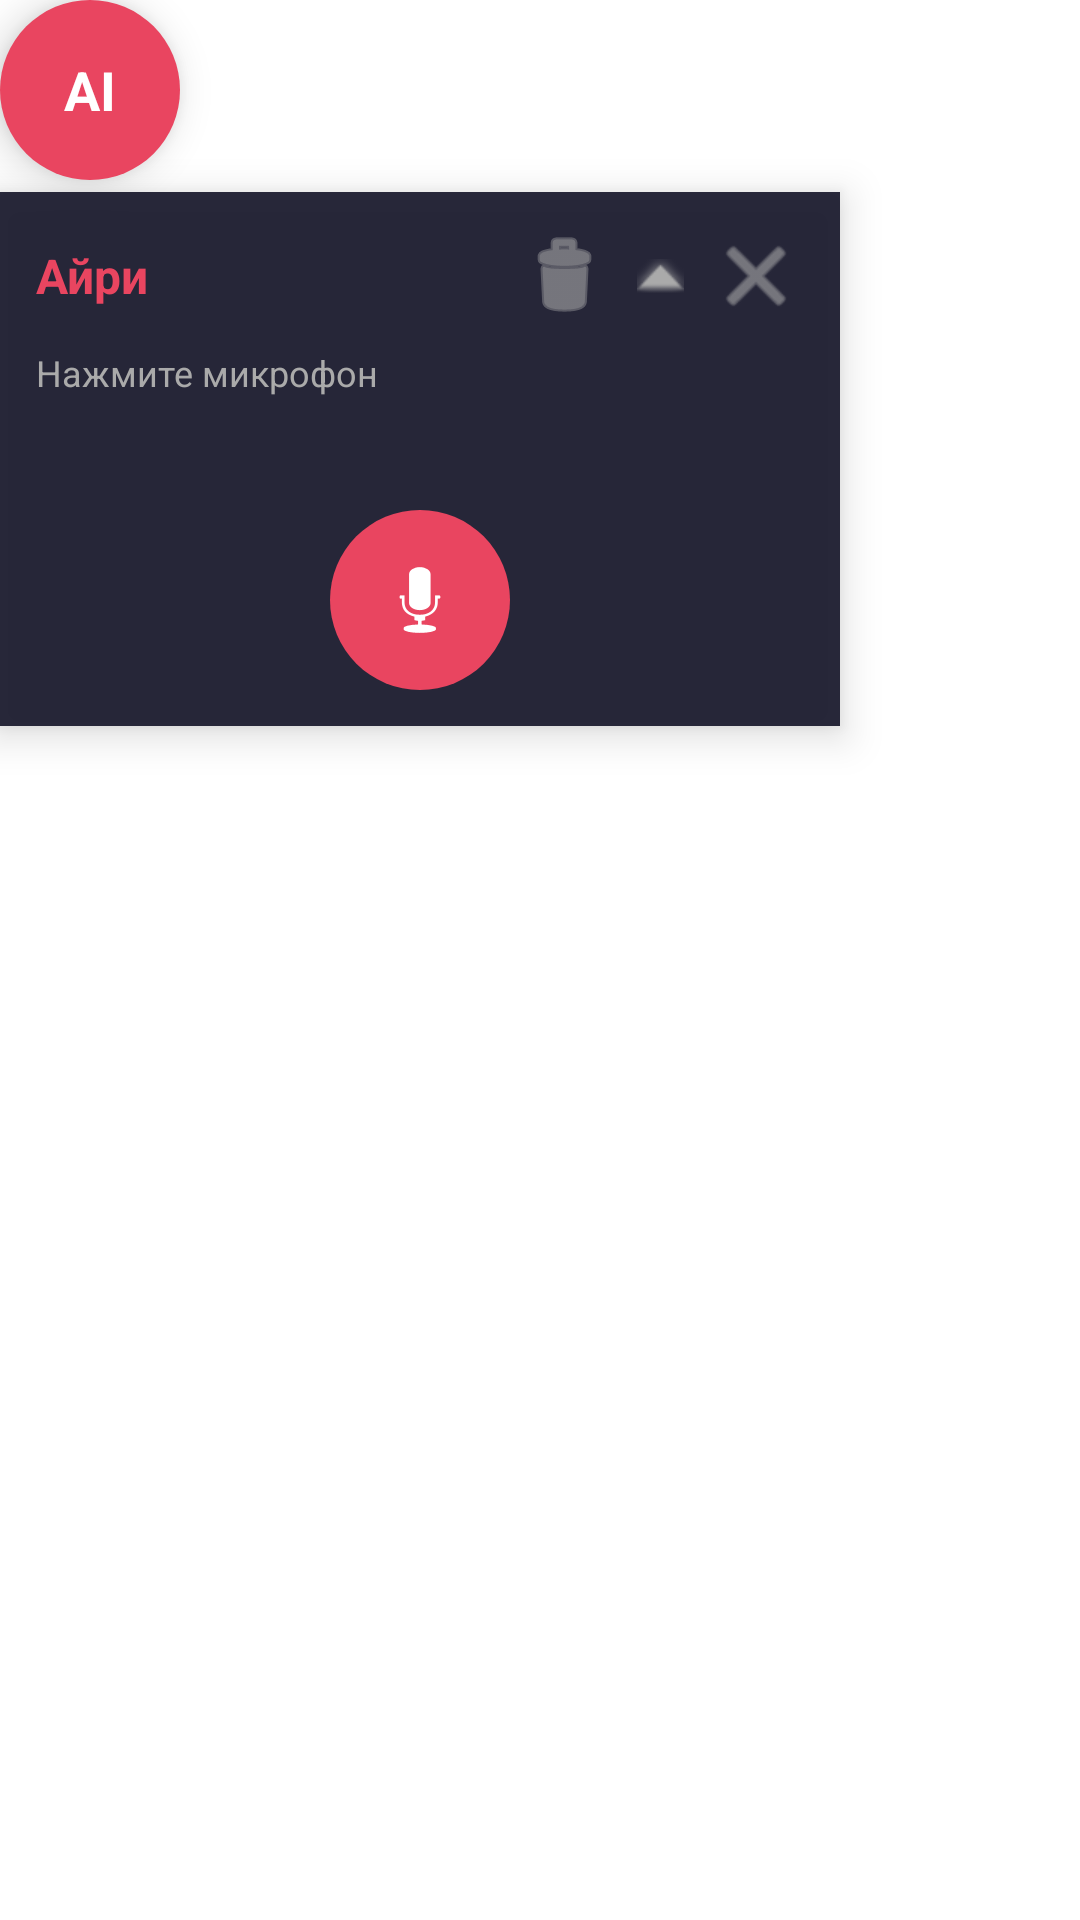

Where to tap for icons on this 1080x1920 app screen, as [x,y]:
arrow up float: [660,277]
close clear cancel: [756,276]
delete: [564,274]
speak now: [420,600]
